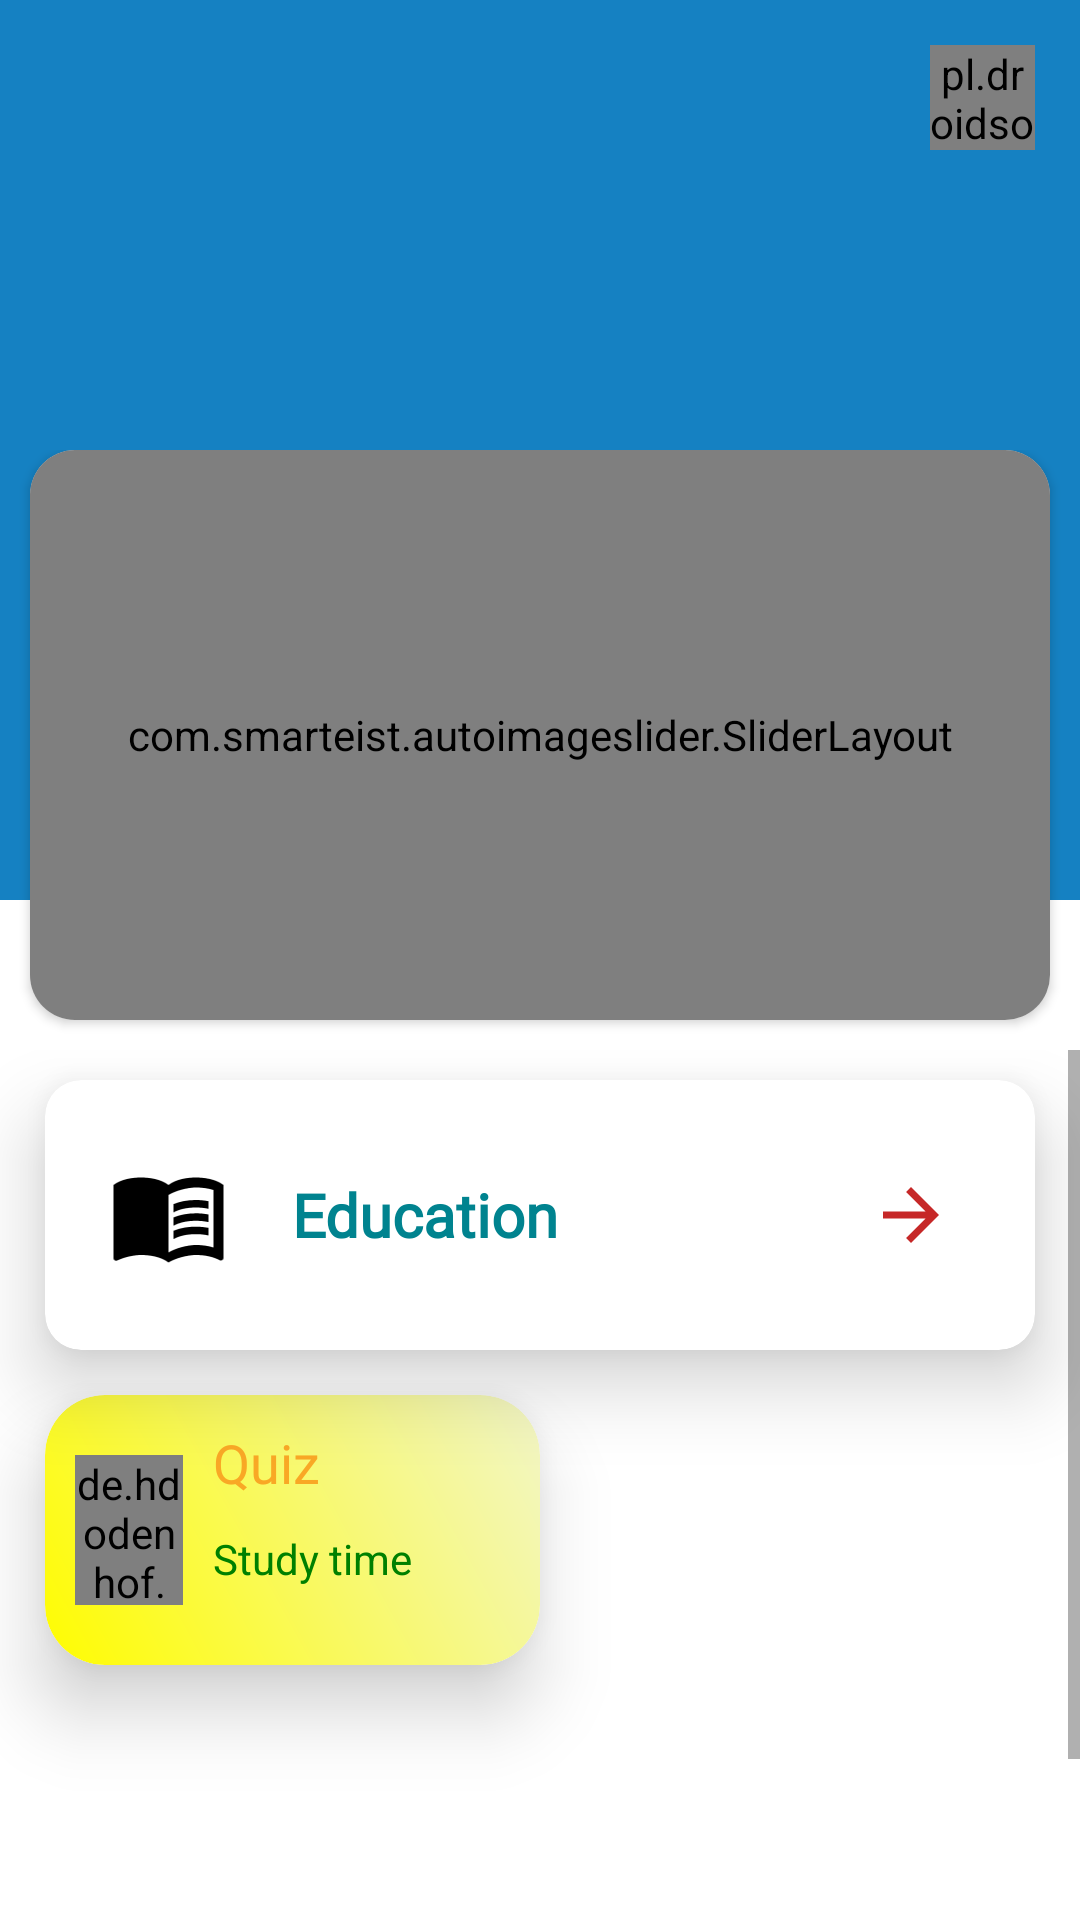

Locate icon controls on the screen. Image size 1080*1920, boxes as (x1, y1, x2, y2).
arrow forward: (883, 1187, 939, 1243)
book: (113, 1177, 224, 1263)
